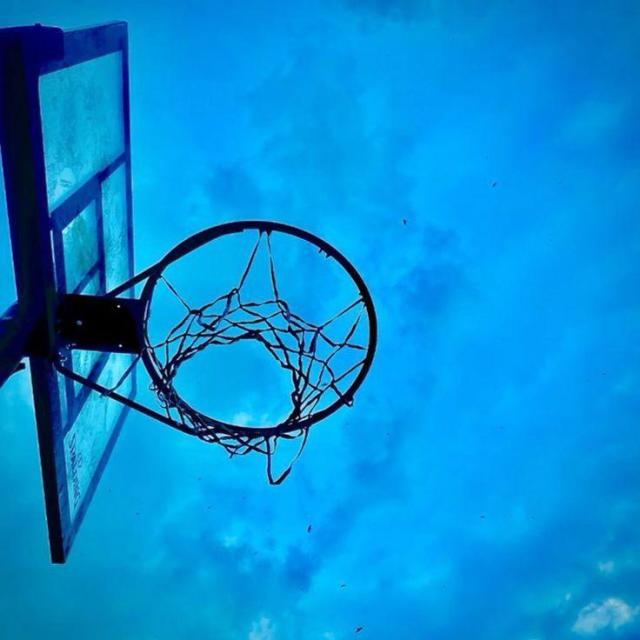hoop: (119, 208, 378, 490)
